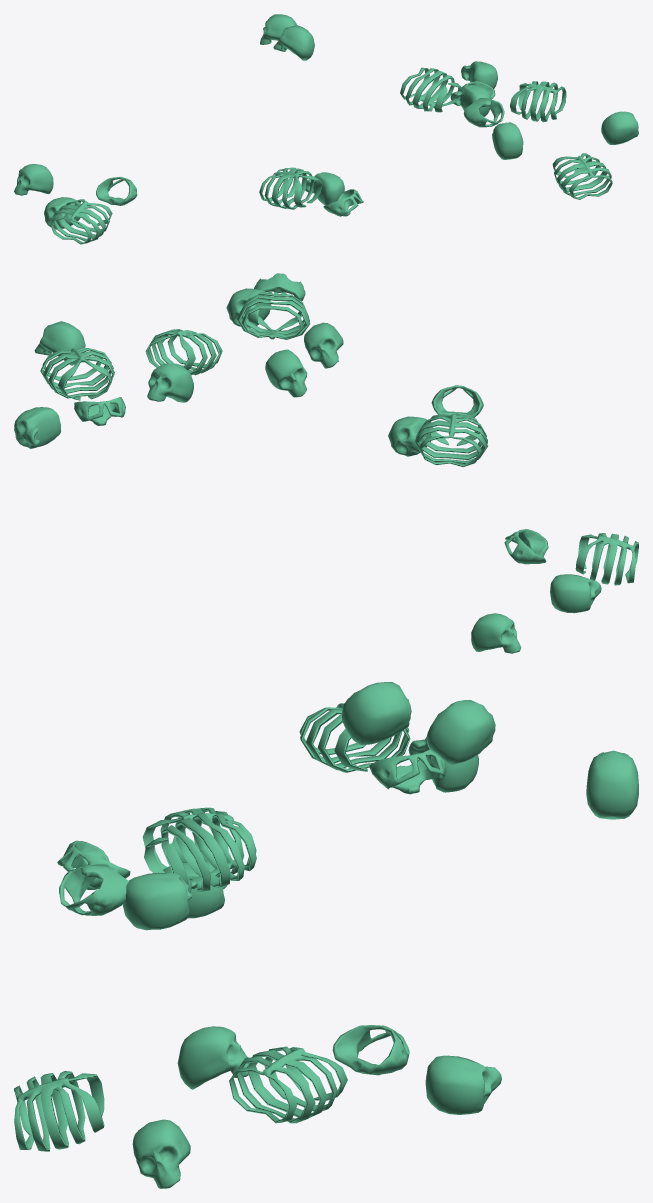
File: Coffin_04B_Lod1.fbx
3 views of the same model, one above another, from view 1: azimuth 30°, elevation 25°; view 2: azimuth 150°, elevation 25°; view 3: azimuth 270°, elevation 25° (orthographic). The views are drawn at different scales.
Visible parts, largest first — view 1: Coffin_04B_Lod1; view 2: Coffin_04B_Lod1; view 3: Coffin_04B_Lod1.
Boxes of the visible parts, x1=… form: Coffin_04B_Lod1: x1=14, y1=14, x2=638, y2=244; Coffin_04B_Lod1: x1=14, y1=273, x2=638, y2=653; Coffin_04B_Lod1: x1=14, y1=682, x2=638, y2=1188.
Bounding box in the file's own units: 291 × 86.6 × 160.
